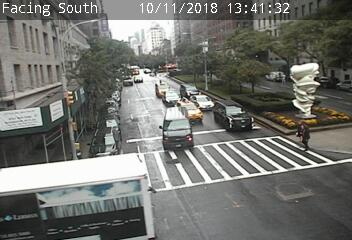car: (163, 107, 192, 151), (214, 100, 253, 130), (89, 127, 120, 160), (175, 99, 201, 122), (189, 95, 214, 110), (162, 90, 182, 106), (180, 84, 200, 99), (154, 82, 172, 97), (134, 74, 143, 84), (123, 76, 133, 85)
